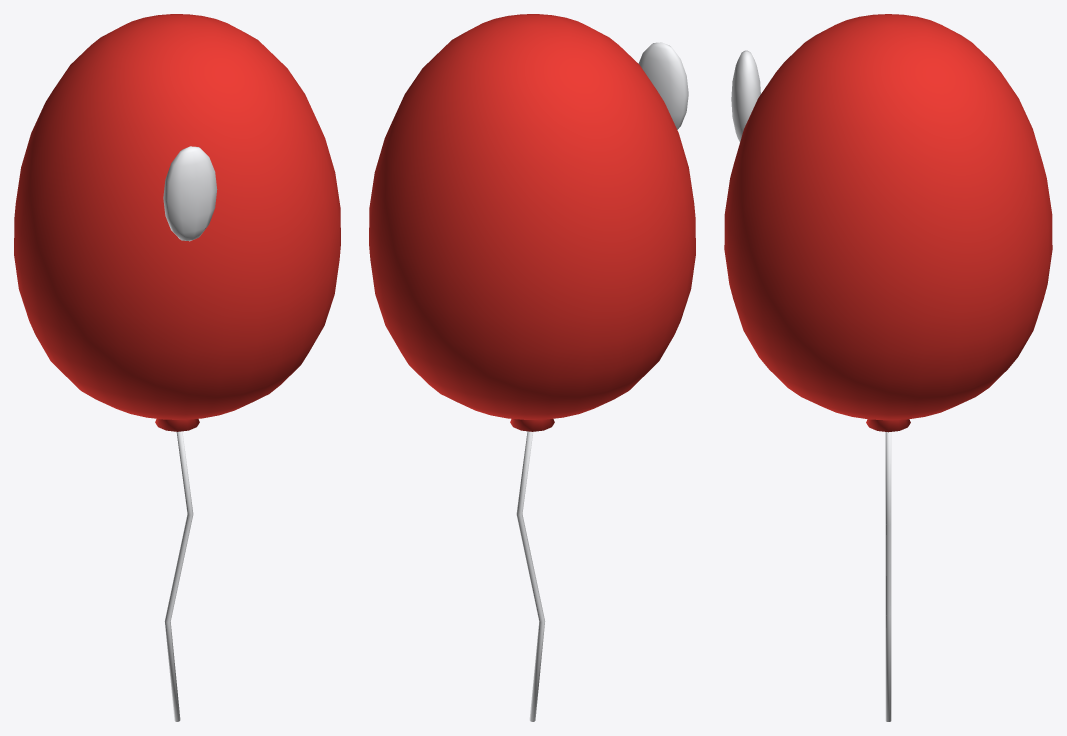
The model's file is balloon.glb.
3 views of the same model, side by side, from view 1: azimuth 30°, elevation 25°; view 2: azimuth 150°, elevation 25°; view 3: azimuth 270°, elevation 25° (orthographic).
Parts seen in each view (by area): view 1: Body; view 2: Body; view 3: Body.
Boxes of the visible parts, x1,y1,x2,y2 form: Body: (14, 14, 340, 721); Body: (369, 14, 695, 721); Body: (724, 14, 1052, 721).
Bounding box in the file's own units: 0.8769 × 2.05 × 0.8769.
